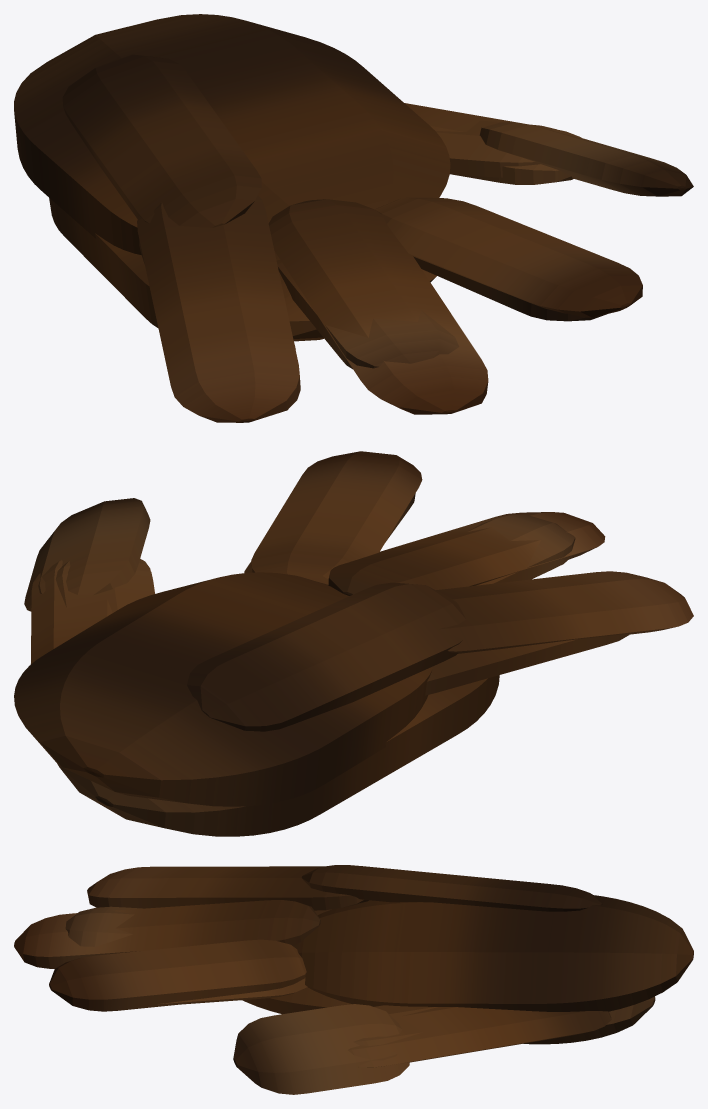
The model's file is right_01_quill.fbx.
The picture shows the model from 3 angles, top to bottom: view 1: azimuth 30°, elevation 25°; view 2: azimuth 150°, elevation 25°; view 3: azimuth 270°, elevation 25°; orthographic projection. The views are drawn at different scales.
Parts seen in each view (by area): view 1: Right_01_quill; view 2: Right_01_quill; view 3: Right_01_quill.
Part boxes in pixels (x1,y1,x2,y2): Right_01_quill: [14, 14, 693, 422]; Right_01_quill: [14, 451, 693, 836]; Right_01_quill: [14, 865, 693, 1094].
Bounding box in the file's own units: 1.11 × 0.2775 × 1.41.
